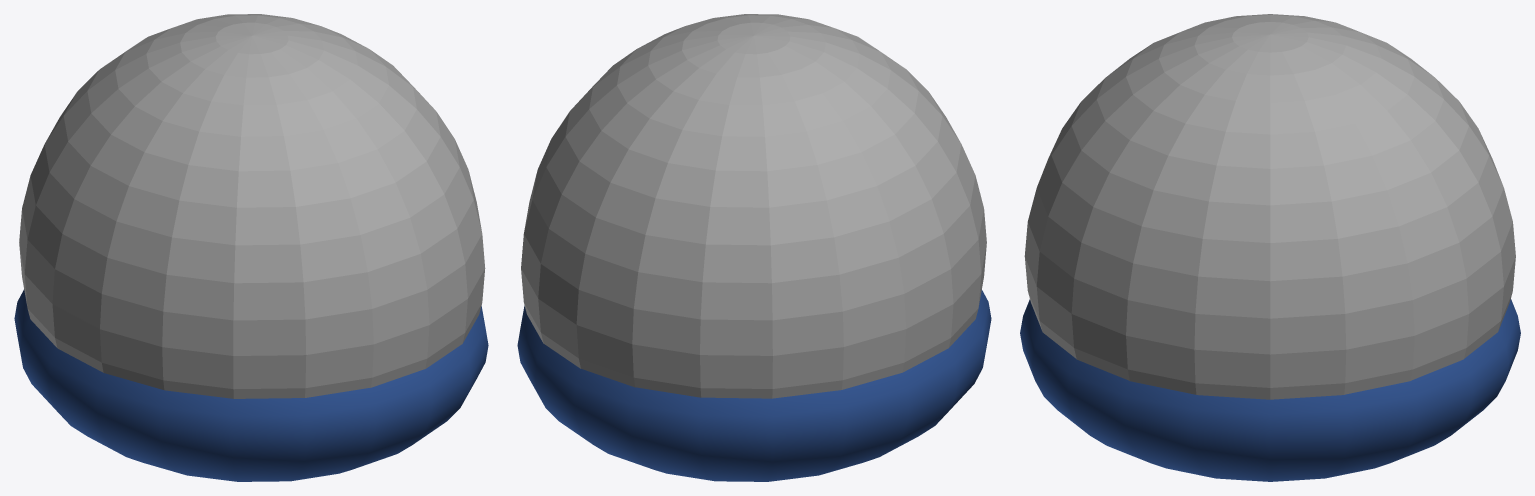
3 views of the same model, side by side, from view 1: azimuth 30°, elevation 25°; view 2: azimuth 150°, elevation 25°; view 3: azimuth 270°, elevation 25° (orthographic).
Parts seen in each view (by area): view 1: Plastic_Bottom, Cap; view 2: Plastic_Bottom, Cap; view 3: Plastic_Bottom, Cap.
Part boxes in pixels (x1,y1,x2,y2): Plastic_Bottom: (19,14,485,398); Cap: (14,289,488,481); Plastic_Bottom: (521,14,986,398); Cap: (517,290,991,481); Plastic_Bottom: (1024,14,1515,399); Cap: (1020,299,1520,481).
Bounding box in the file's own units: 3.2 × 3.06 × 3.39.
